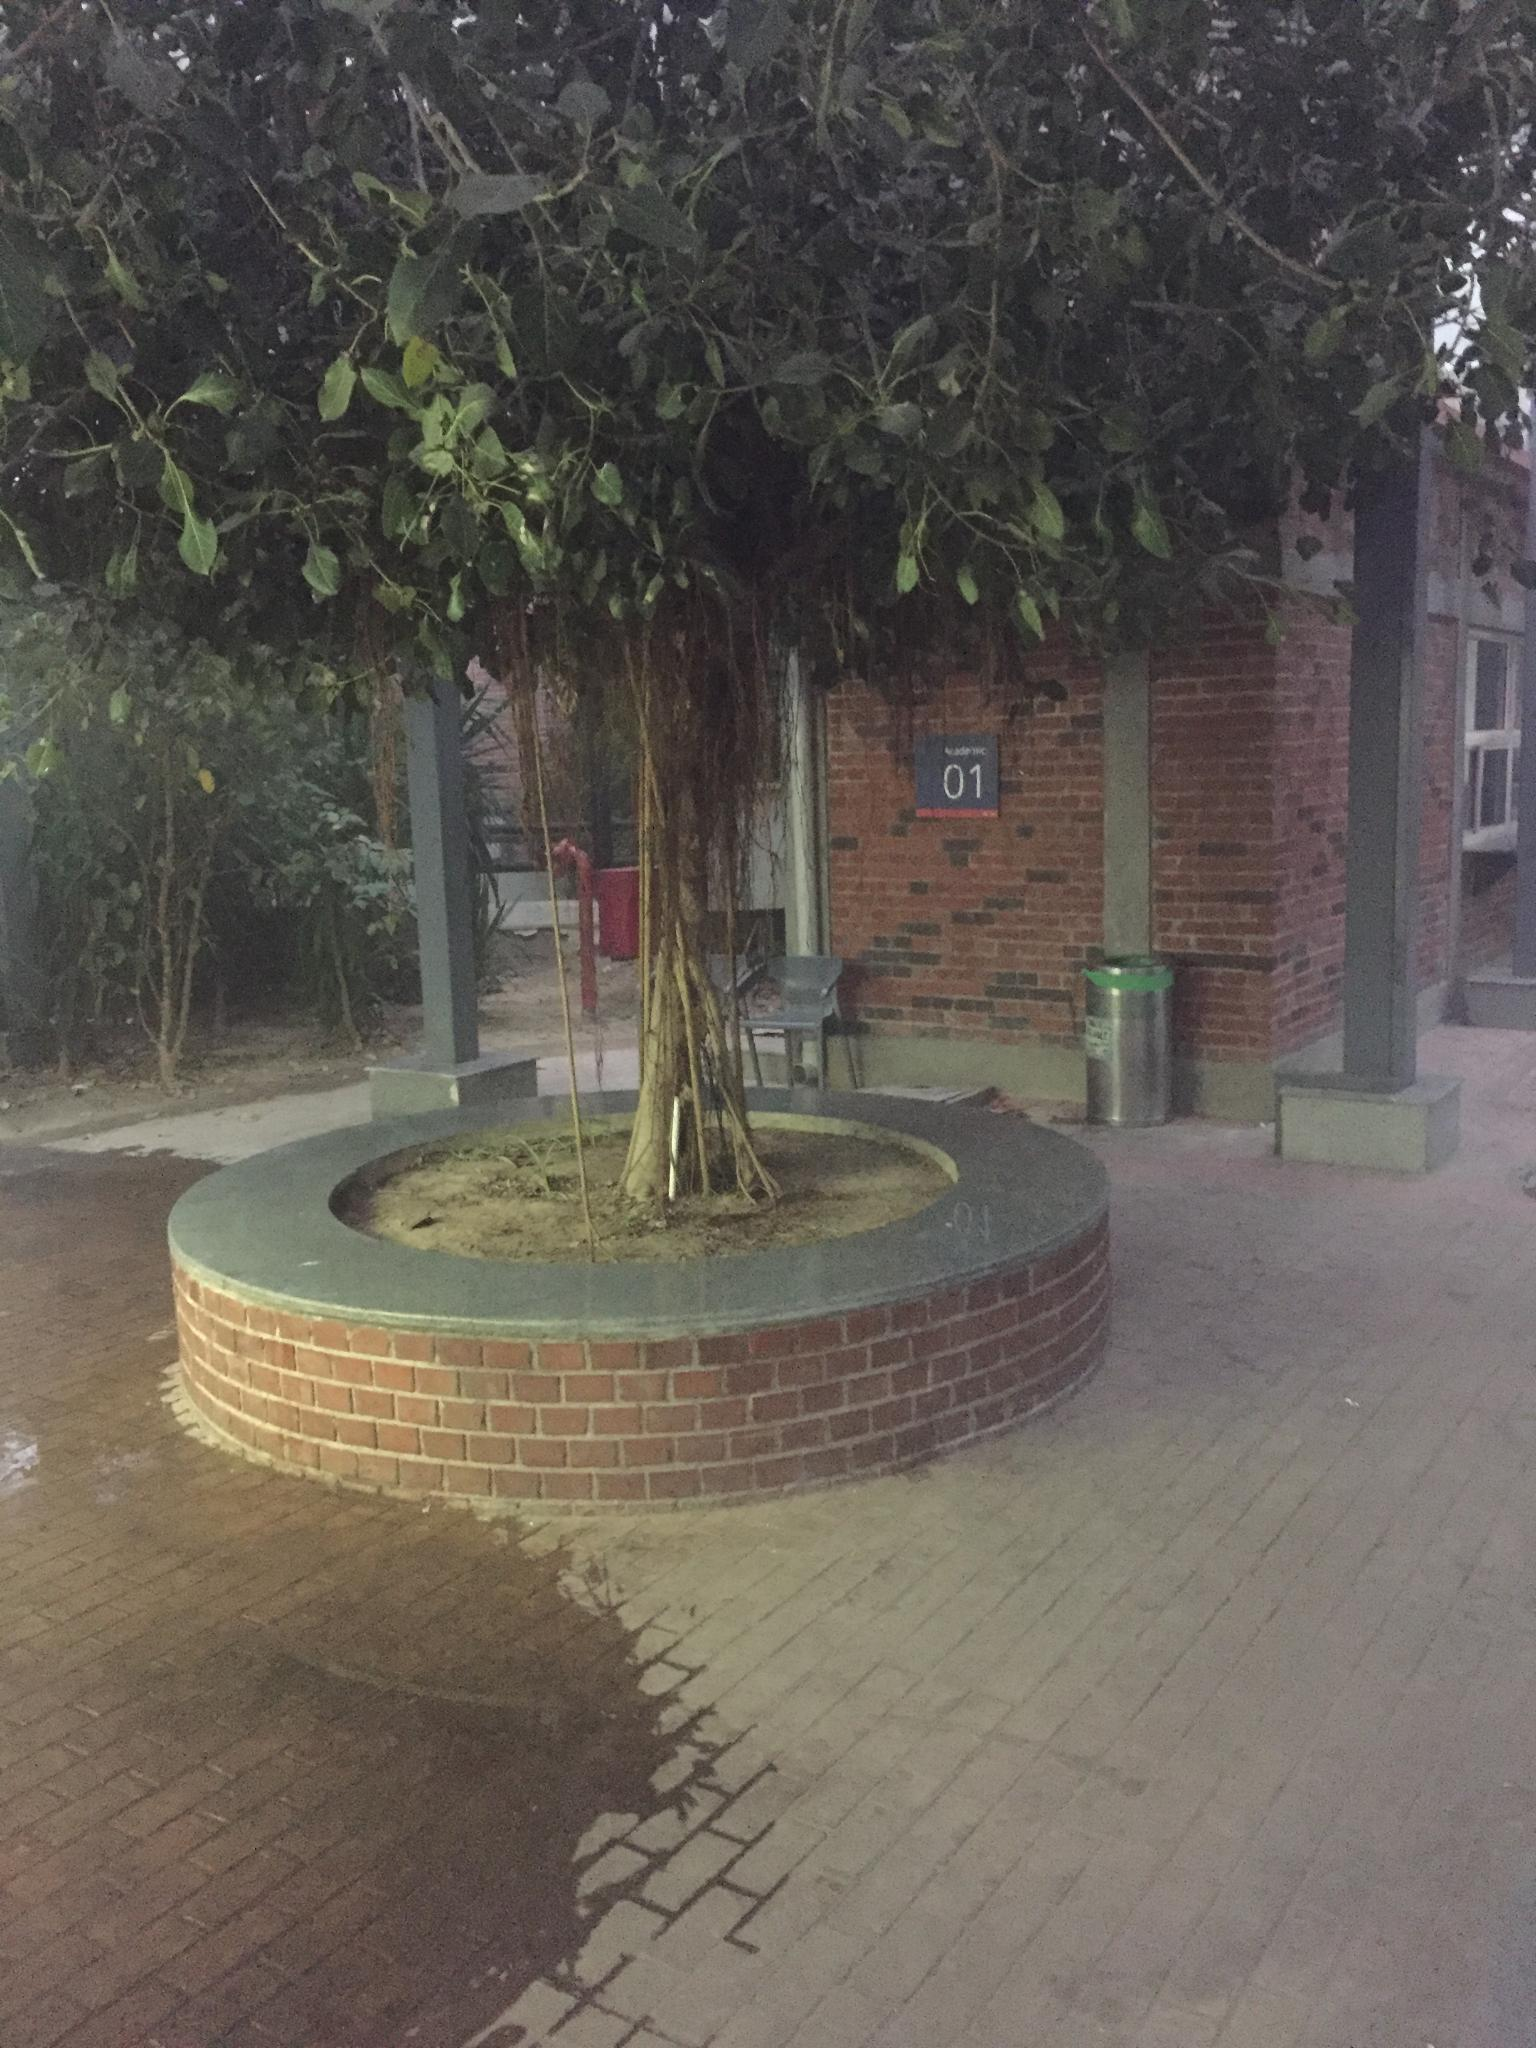chair: (729, 953, 860, 1090)
